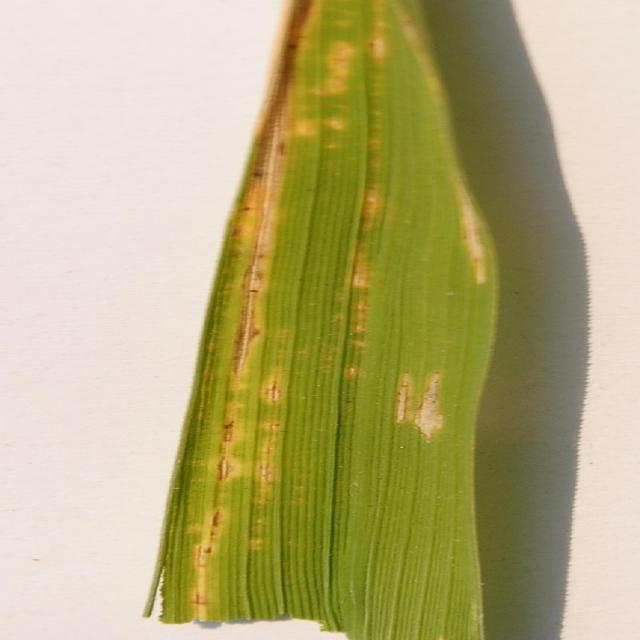Bacterial_Leaf_Blight: (186, 1, 383, 640)
